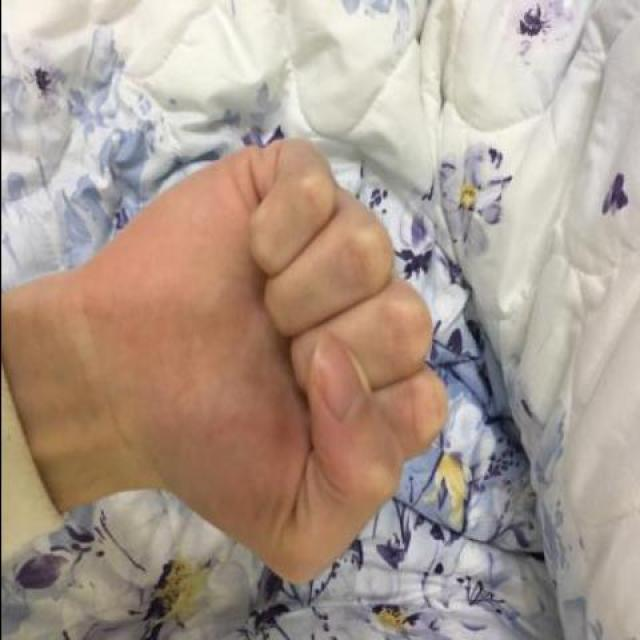Closed Hand: (70, 134, 455, 595)
